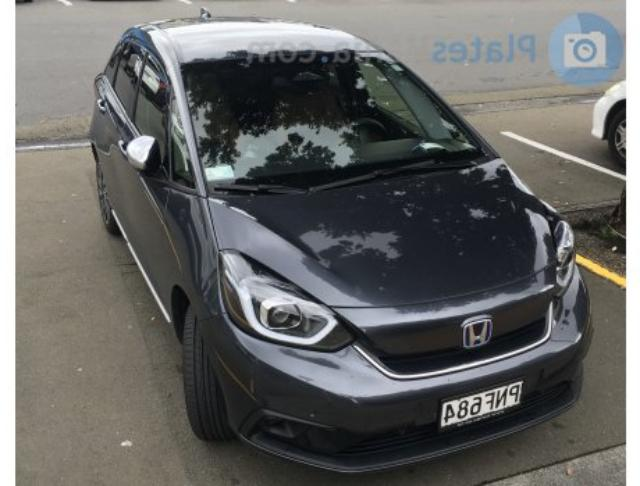Rego: (441, 378, 524, 431)
